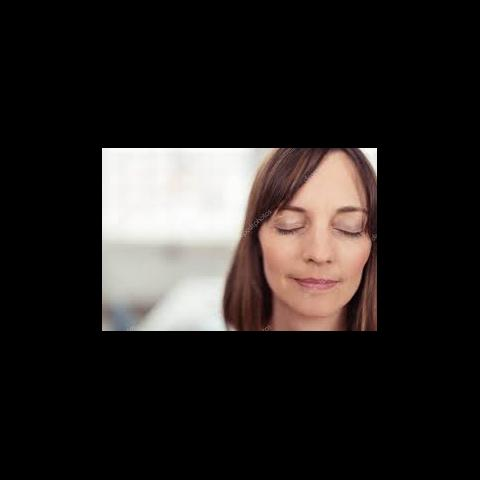closed: (271, 199, 371, 242)
